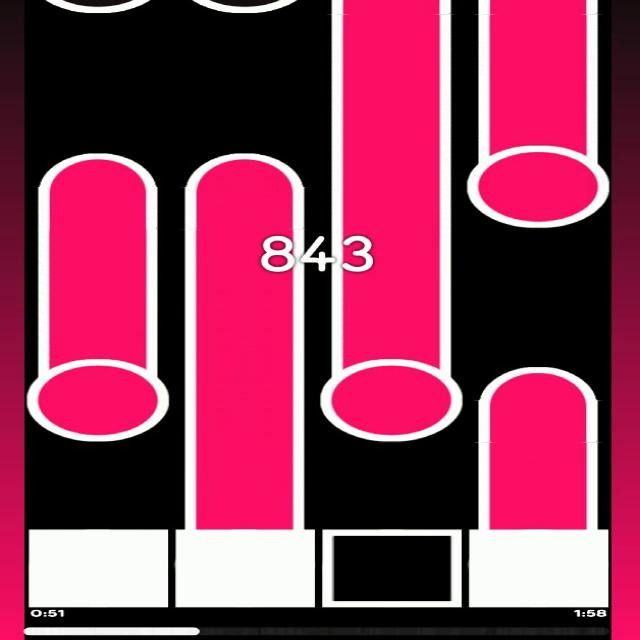end_hold: (28, 143, 168, 197), (474, 352, 600, 411), (182, 142, 306, 198)
start_hold: (26, 337, 169, 444), (321, 335, 462, 441), (466, 137, 608, 231)
